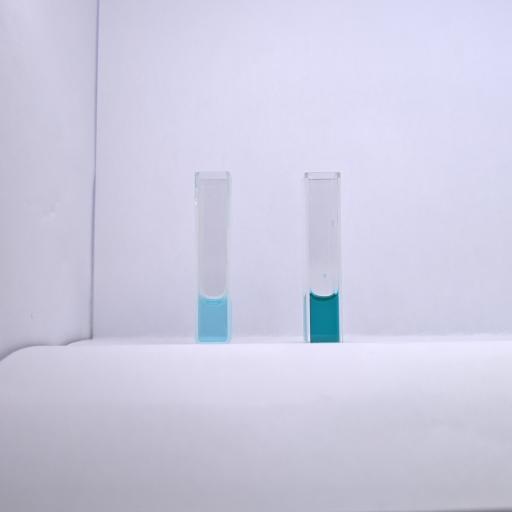cuvette: (302, 170, 344, 346), (193, 169, 233, 346)
liquid: (310, 292, 338, 343), (199, 296, 227, 341)
